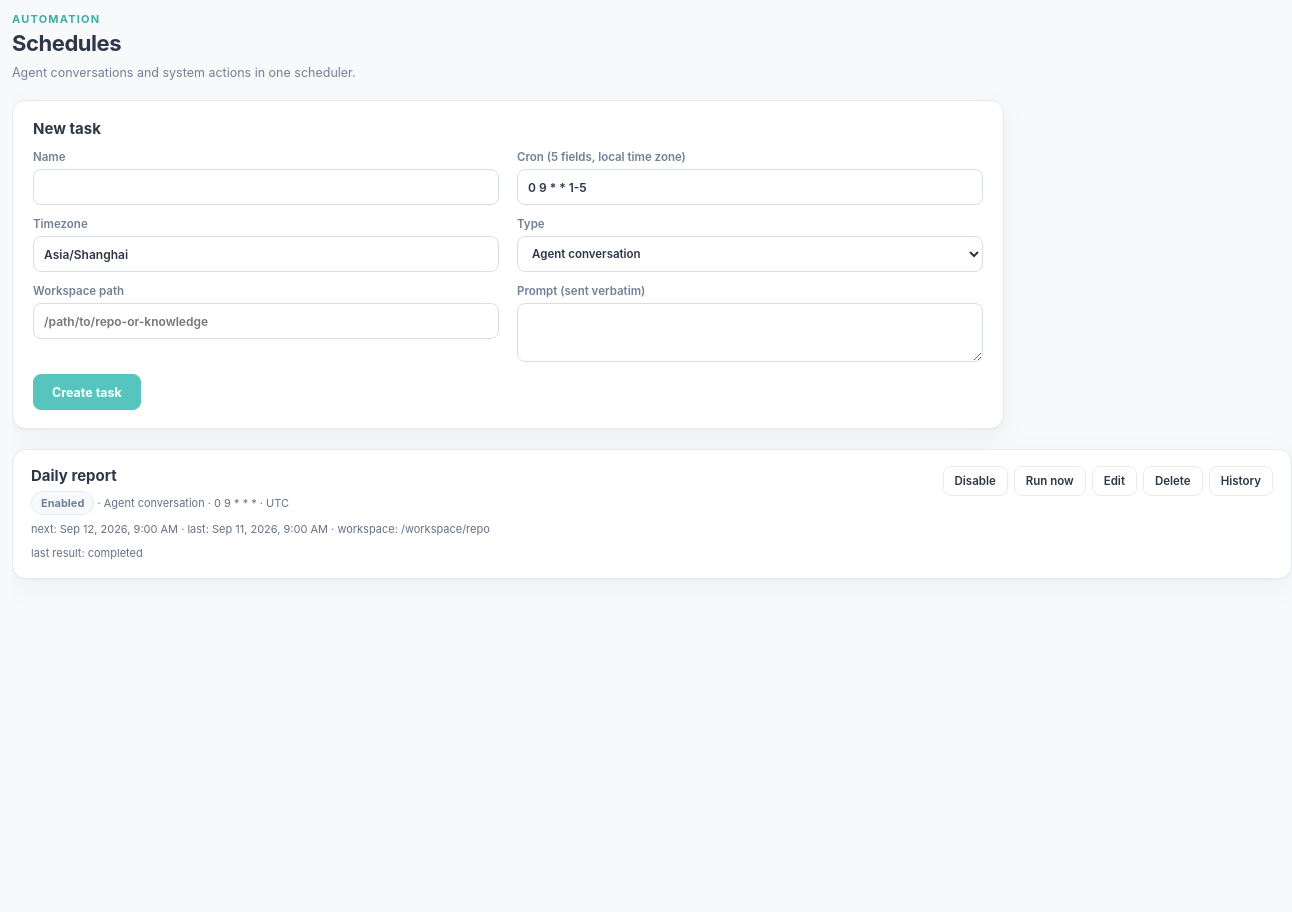
Scenario: ScheduledTasksPage history › links every historical run to its own Agent session
The width and height of the screenshot is (1292, 912).
Click the button "History": (1241, 481) [1209,466,1273,496]
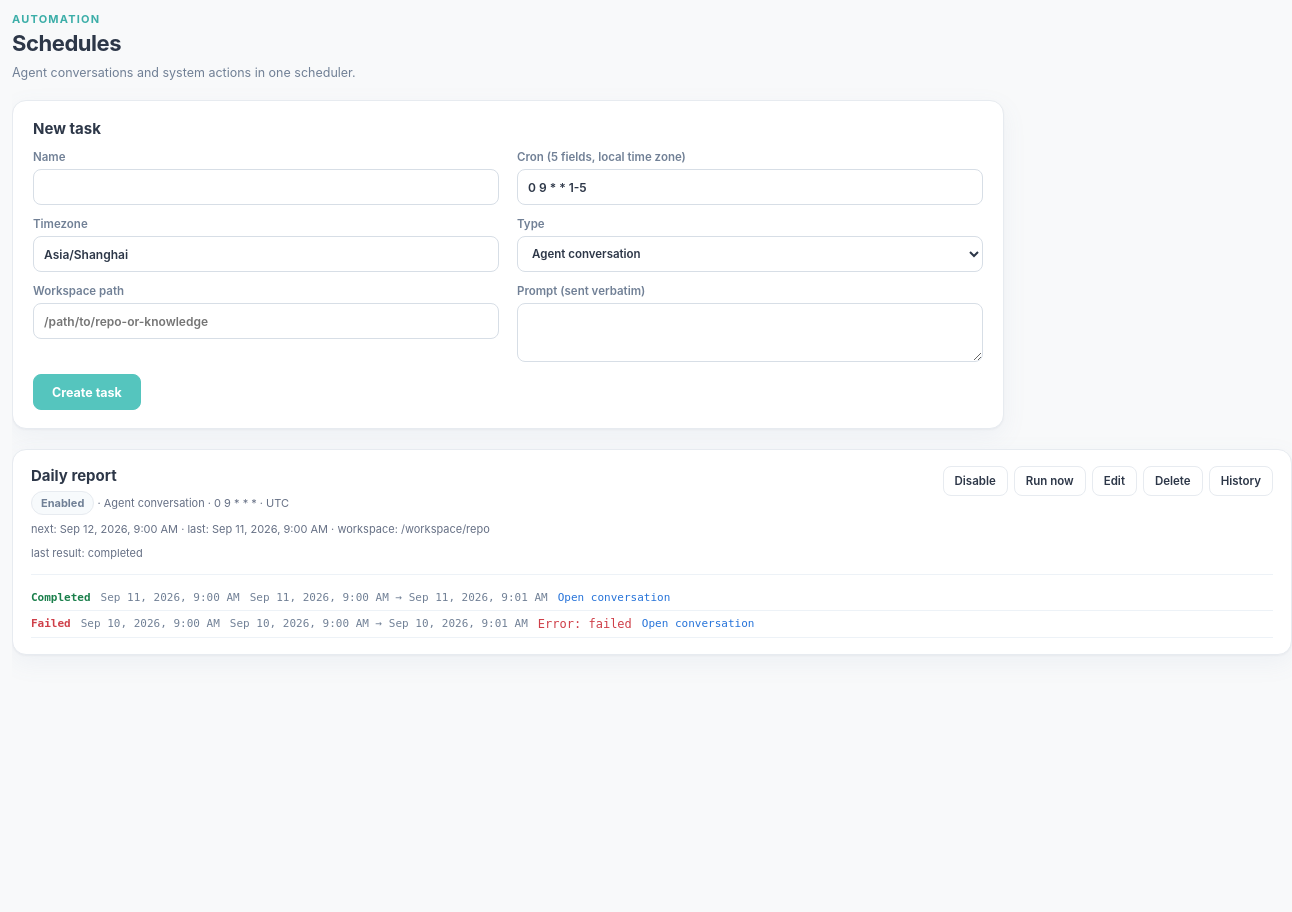
Now the number of links "Open conversation" is 2, box [558,591,670,604]; [642,617,754,631]
